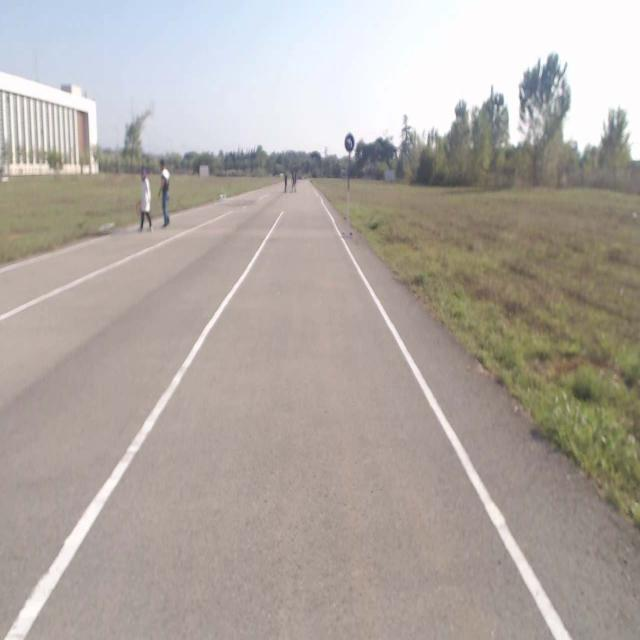sol: (344, 134, 354, 151)
